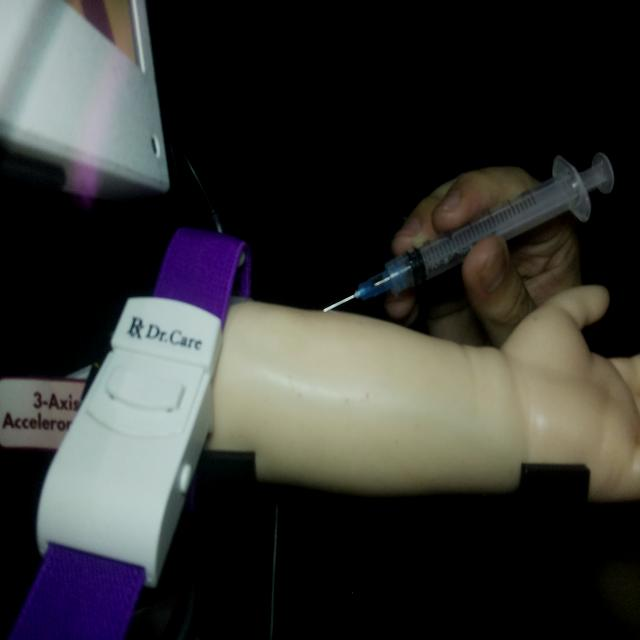18 degrees: (321, 148, 616, 315)
